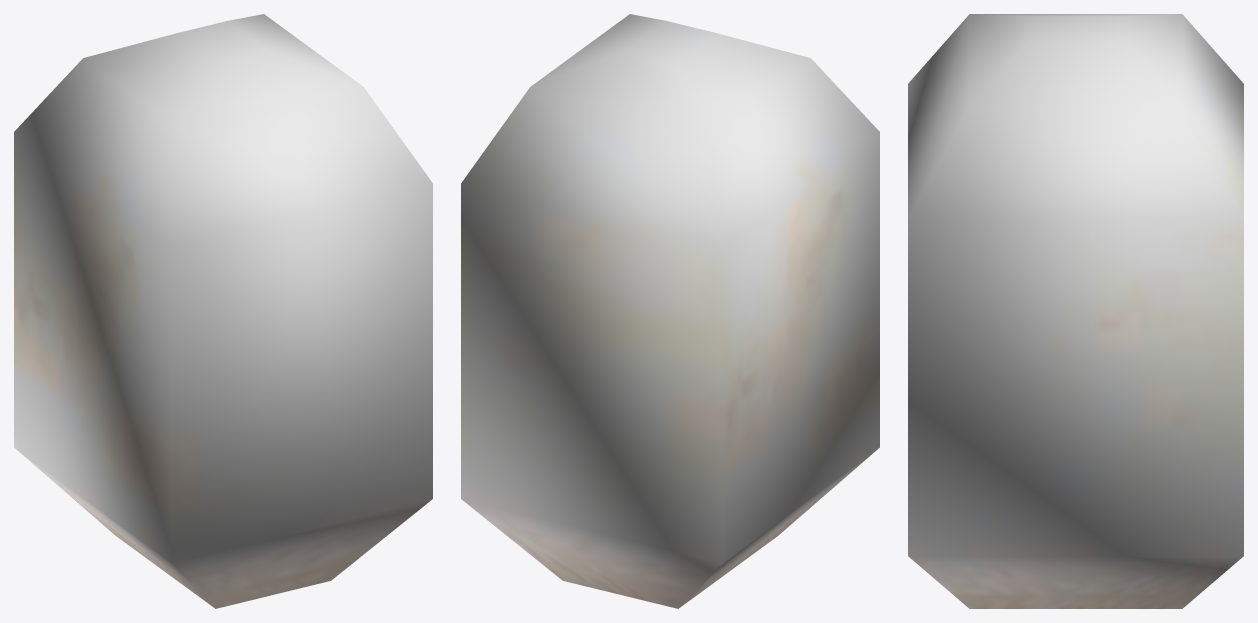
Rendered from light_blink_orange_l1.fbx.
The picture shows the model from 3 angles, left to right: view 1: azimuth 30°, elevation 25°; view 2: azimuth 150°, elevation 25°; view 3: azimuth 270°, elevation 25°; orthographic projection. The views are drawn at different scales.
Visible parts, largest first — view 1: mesh_node; view 2: mesh_node; view 3: mesh_node.
Boxes of the visible parts, left/top/right/bottom form: mesh_node: left=14, top=14, right=432, bottom=608; mesh_node: left=461, top=14, right=879, bottom=608; mesh_node: left=908, top=14, right=1243, bottom=608.
Size of the model in its own units: 0.2149 by 0.4049 by 0.2244.
